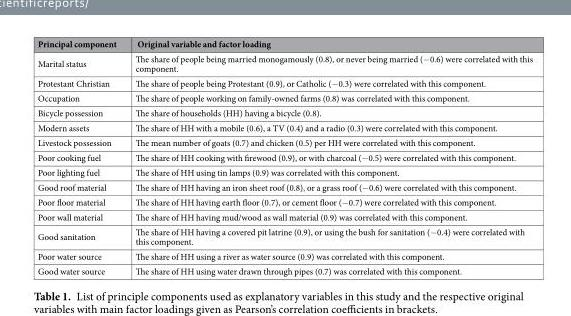table: (36, 37, 531, 276)
table column: (125, 37, 531, 276), (36, 37, 125, 276)
table column header: (36, 37, 531, 50)
table row: (36, 50, 531, 75), (36, 224, 531, 248), (36, 75, 531, 90), (36, 90, 531, 105), (36, 119, 531, 134), (36, 134, 531, 149), (36, 149, 531, 164), (36, 164, 531, 179), (36, 179, 531, 194), (36, 194, 531, 209), (36, 209, 531, 224), (36, 248, 531, 263), (36, 105, 531, 119), (36, 37, 531, 50), (36, 263, 531, 276)
